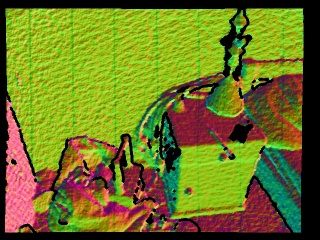station: (107, 133, 147, 208)
